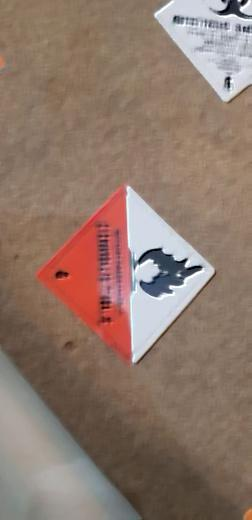infectious-substance: (151, 1, 251, 100)
spontaneously-combustible: (37, 184, 218, 367)
